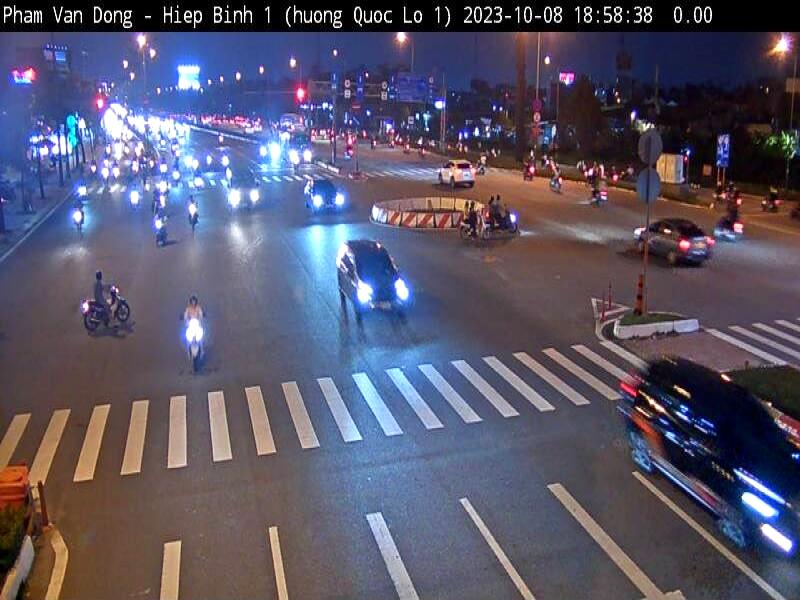car: (615, 349, 800, 568), (327, 234, 414, 327), (632, 214, 716, 278), (301, 175, 347, 219), (437, 159, 477, 192)
motorcycle: (79, 285, 135, 332), (183, 313, 206, 376)
